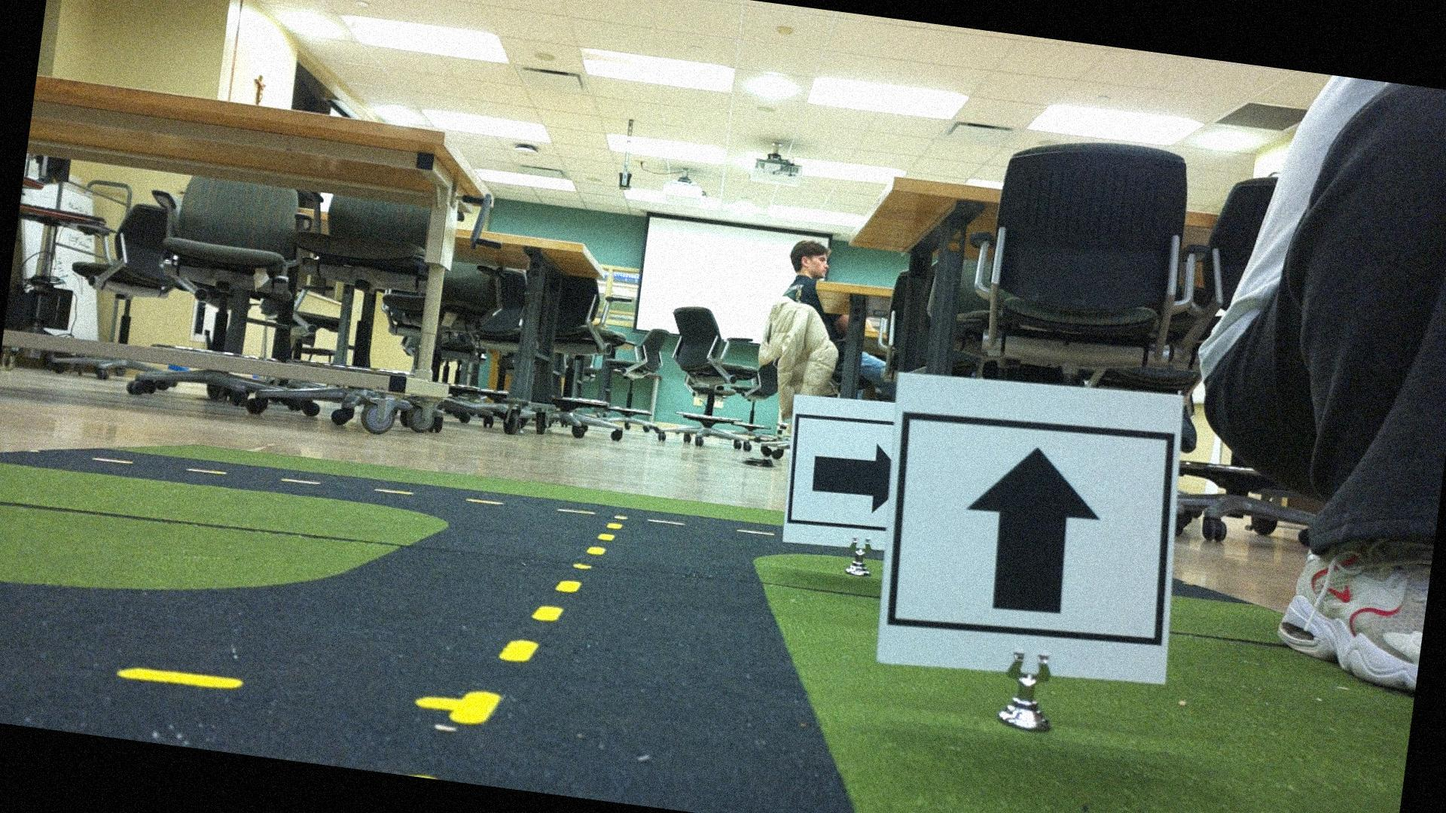gostraight: (886, 373, 1192, 690)
turnleft: (776, 417, 893, 540)
yellowline: (455, 495, 625, 741)
